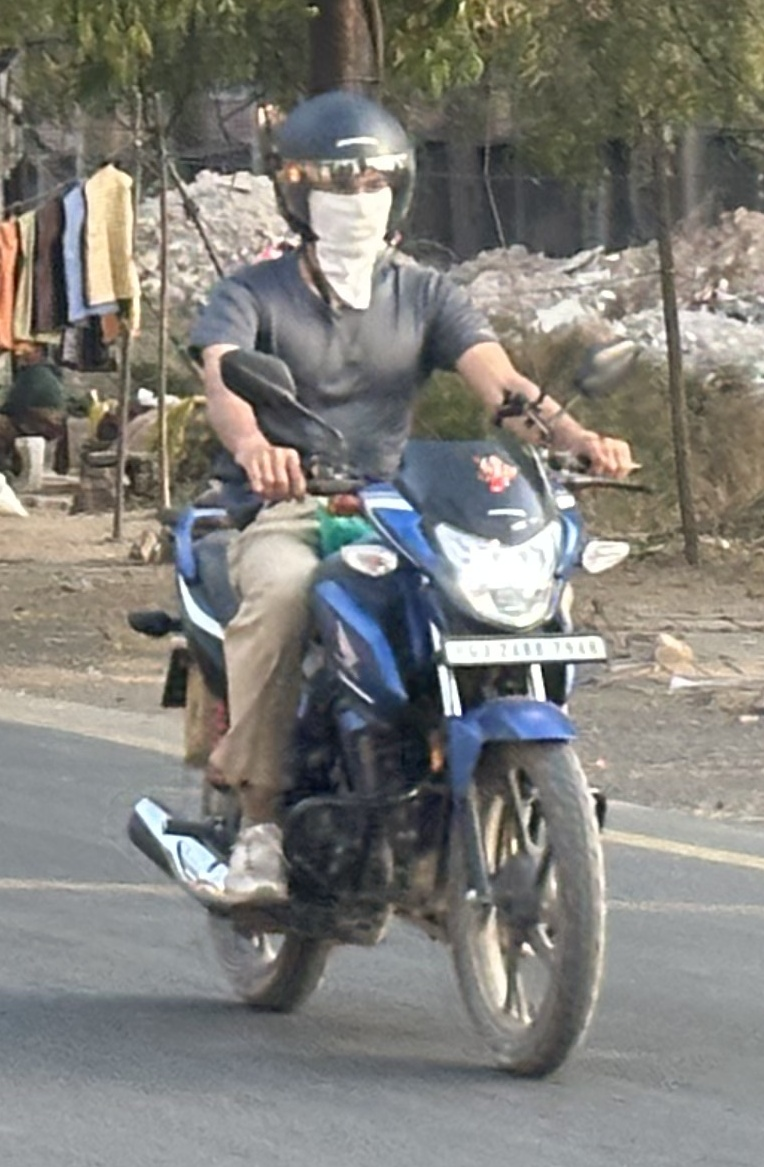BikeWithRider: (120, 87, 649, 1081)
Helmet: (268, 89, 420, 262)
